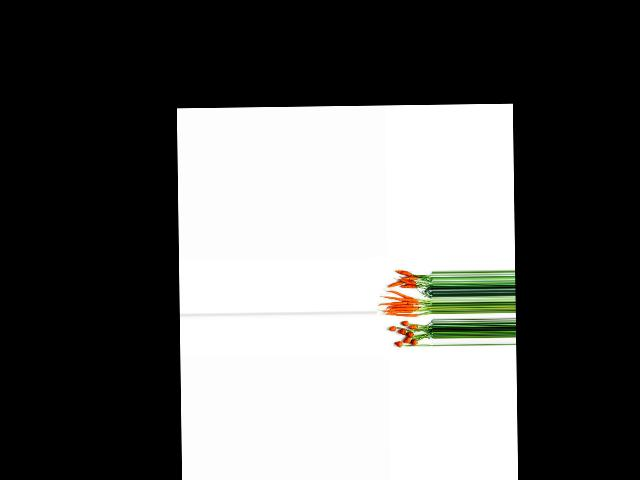carrot: (392, 339, 402, 347)
